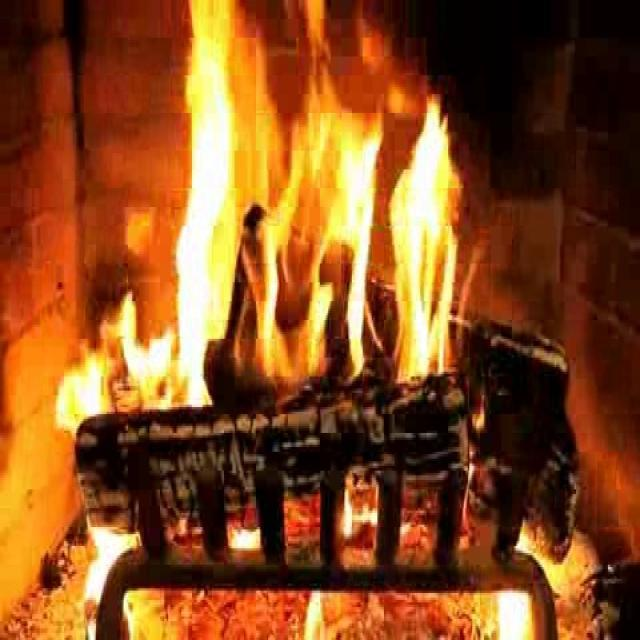Fire: (165, 5, 461, 413)
